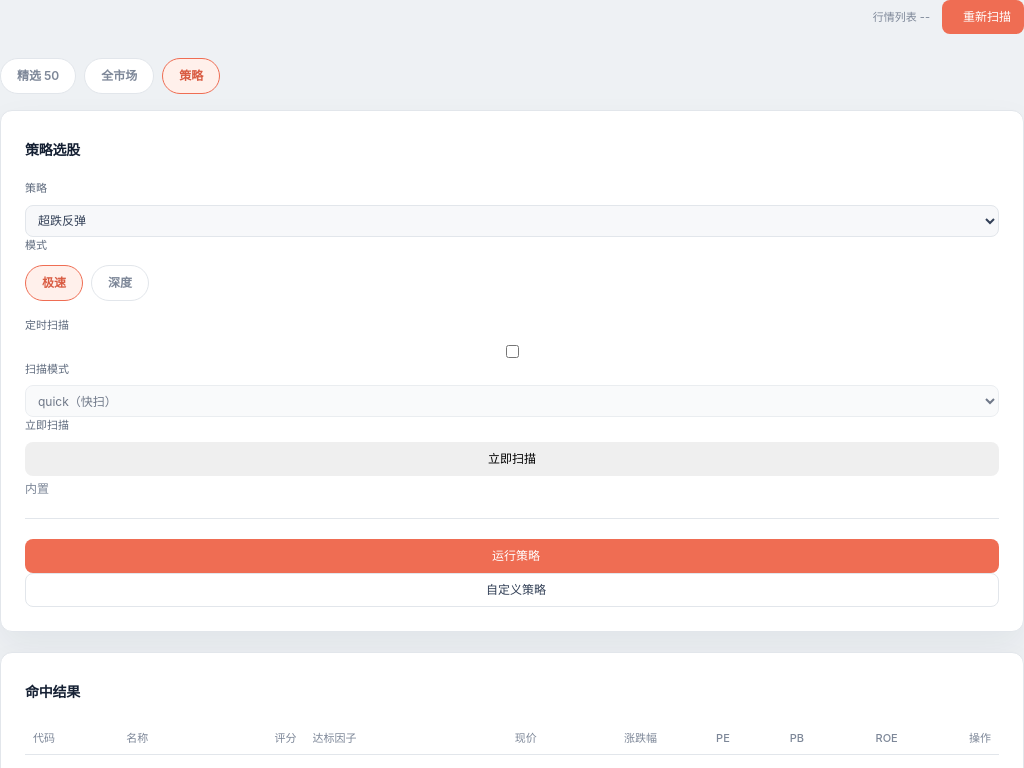
Test: ViewScreener 自定义策略编辑器 › 新建模式渲染编辑器表单与 fork 下拉
The image size is (1024, 768).
Step 1. Click the button with test id "new-custom-strategy" → coordinates (512, 590), box [25,572,999,606]
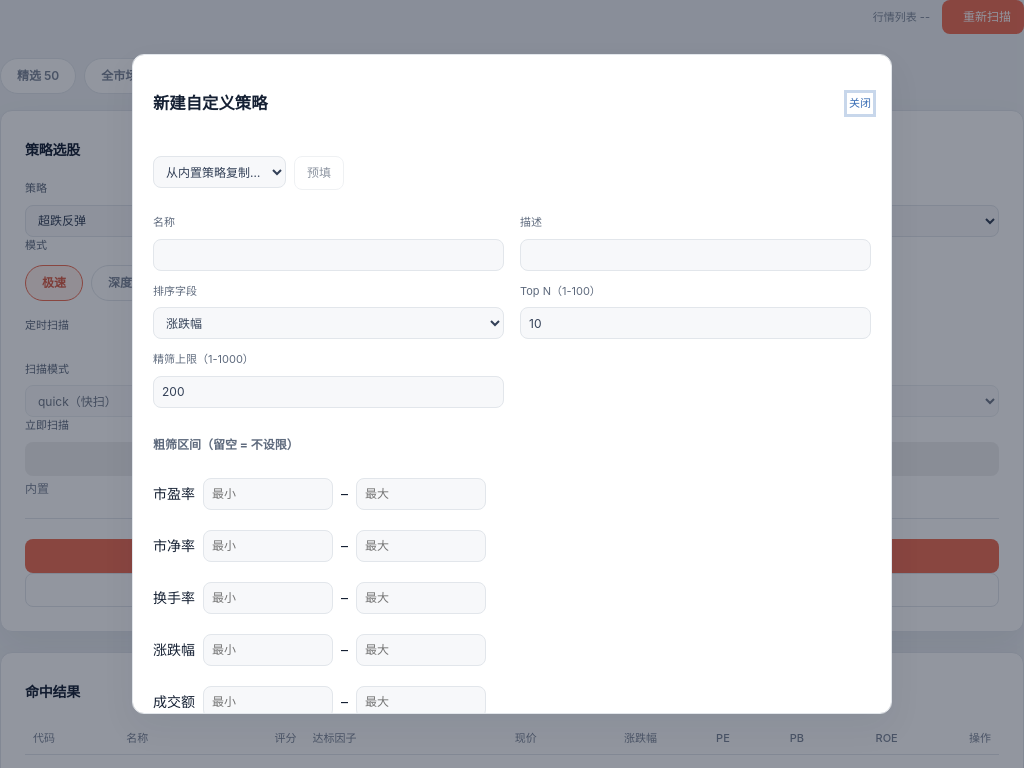
Now the dialog with class "custom-strategy-panel" is shown
Now the field named "策略名称" is shown, box [153,239,504,271]
Now the dropdown named "从内置策略复制" is shown, box [153,156,286,188]
